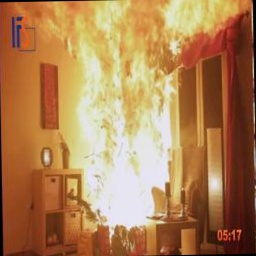fire: (49, 0, 201, 235)
